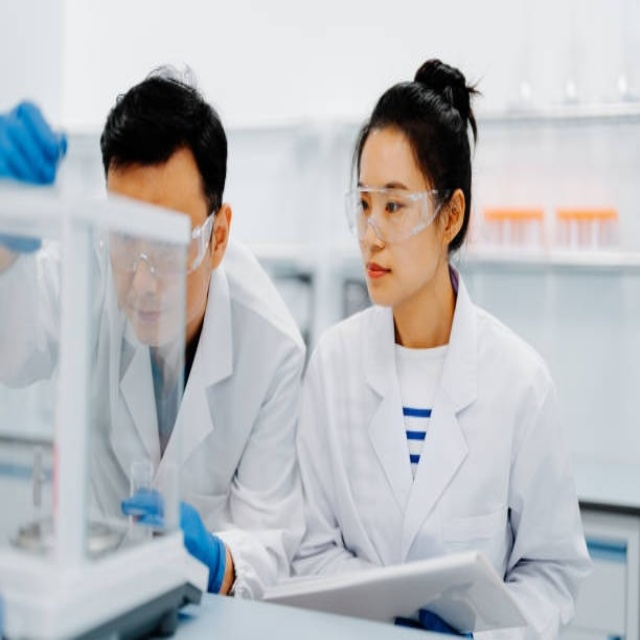Gafas: (102, 212, 216, 286), (345, 186, 449, 245)
Guantes: (118, 478, 231, 598), (2, 94, 69, 177)
Sin_mascara: (122, 293, 173, 344), (362, 251, 402, 290)
